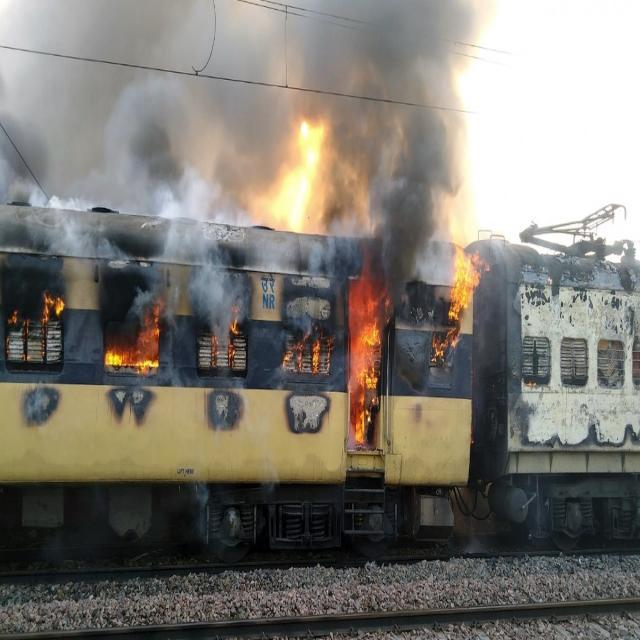Fire: (348, 280, 382, 450), (452, 247, 486, 323), (104, 342, 164, 372), (430, 329, 460, 361)
Smoke: (2, 6, 230, 214), (336, 7, 446, 246), (170, 224, 242, 330)
